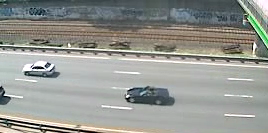car: (122, 84, 174, 106), (20, 59, 58, 79)
